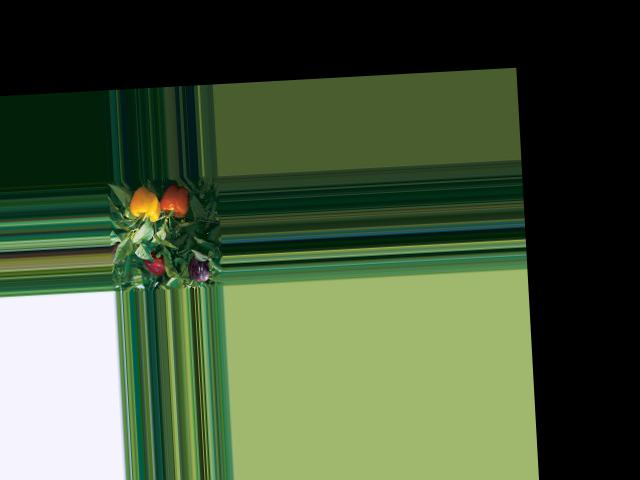bell_pepper: (128, 186, 168, 224)
